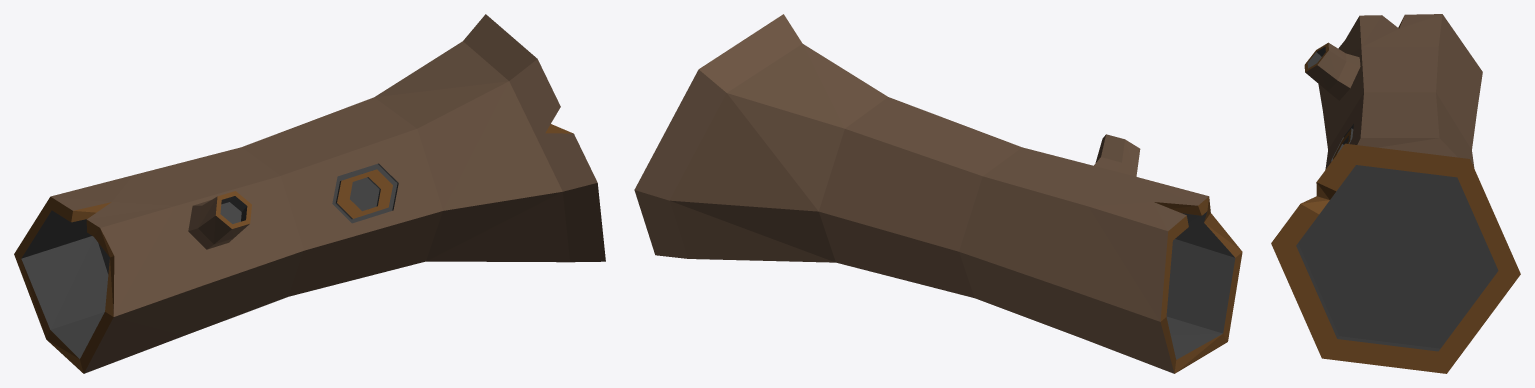
The model's file is Vegetation_Tree_Trunk_Fallen_02.fbx.
3 renders of one model, left to right at view 1: azimuth 30°, elevation 25°; view 2: azimuth 150°, elevation 25°; view 3: azimuth 270°, elevation 25°, orthographic. The views are drawn at different scales.
Visible parts, largest first — view 1: Vegetation_Tree_Trunk_Fallen_02; view 2: Vegetation_Tree_Trunk_Fallen_02; view 3: Vegetation_Tree_Trunk_Fallen_02.
Boxes of the visible parts, box(x1,y1,x2,y2) form: Vegetation_Tree_Trunk_Fallen_02: box(14, 14, 605, 373); Vegetation_Tree_Trunk_Fallen_02: box(634, 14, 1242, 373); Vegetation_Tree_Trunk_Fallen_02: box(1271, 14, 1520, 373).
Size of the model in its own units: 1776 by 705 by 805.
